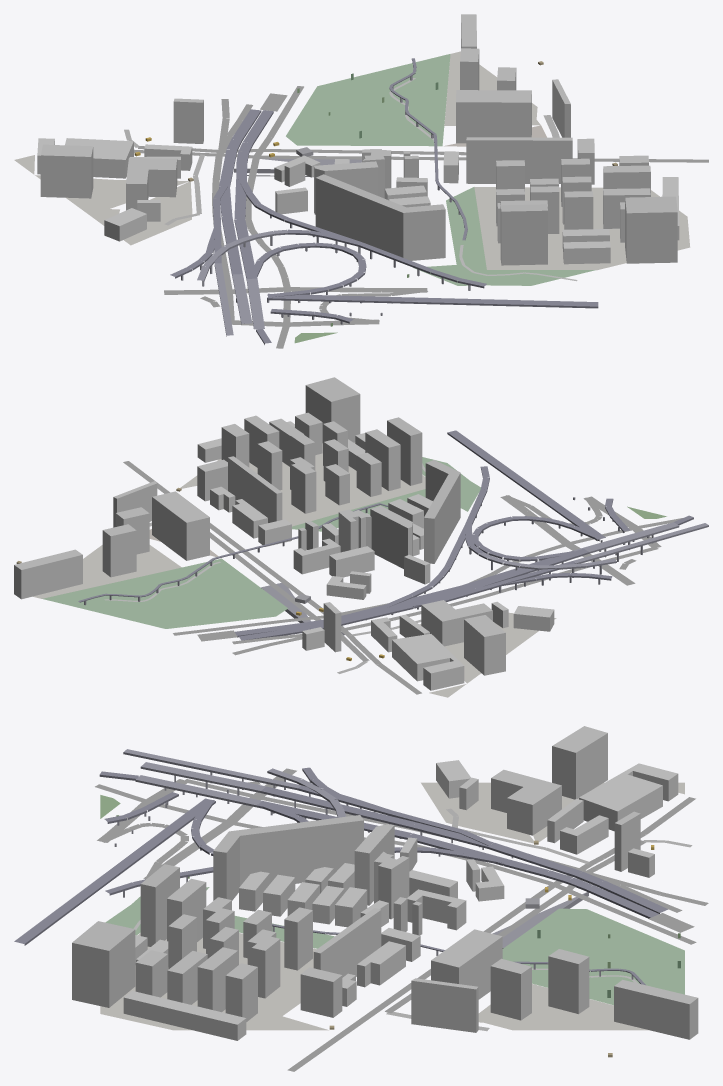
3 renders of one model, top to bottom at view 1: azimuth 30°, elevation 25°; view 2: azimuth 150°, elevation 25°; view 3: azimuth 270°, elevation 25°, orthographic. The views are drawn at different scales.
Bounding box in the file's own units: 622 × 78.28 × 594.
